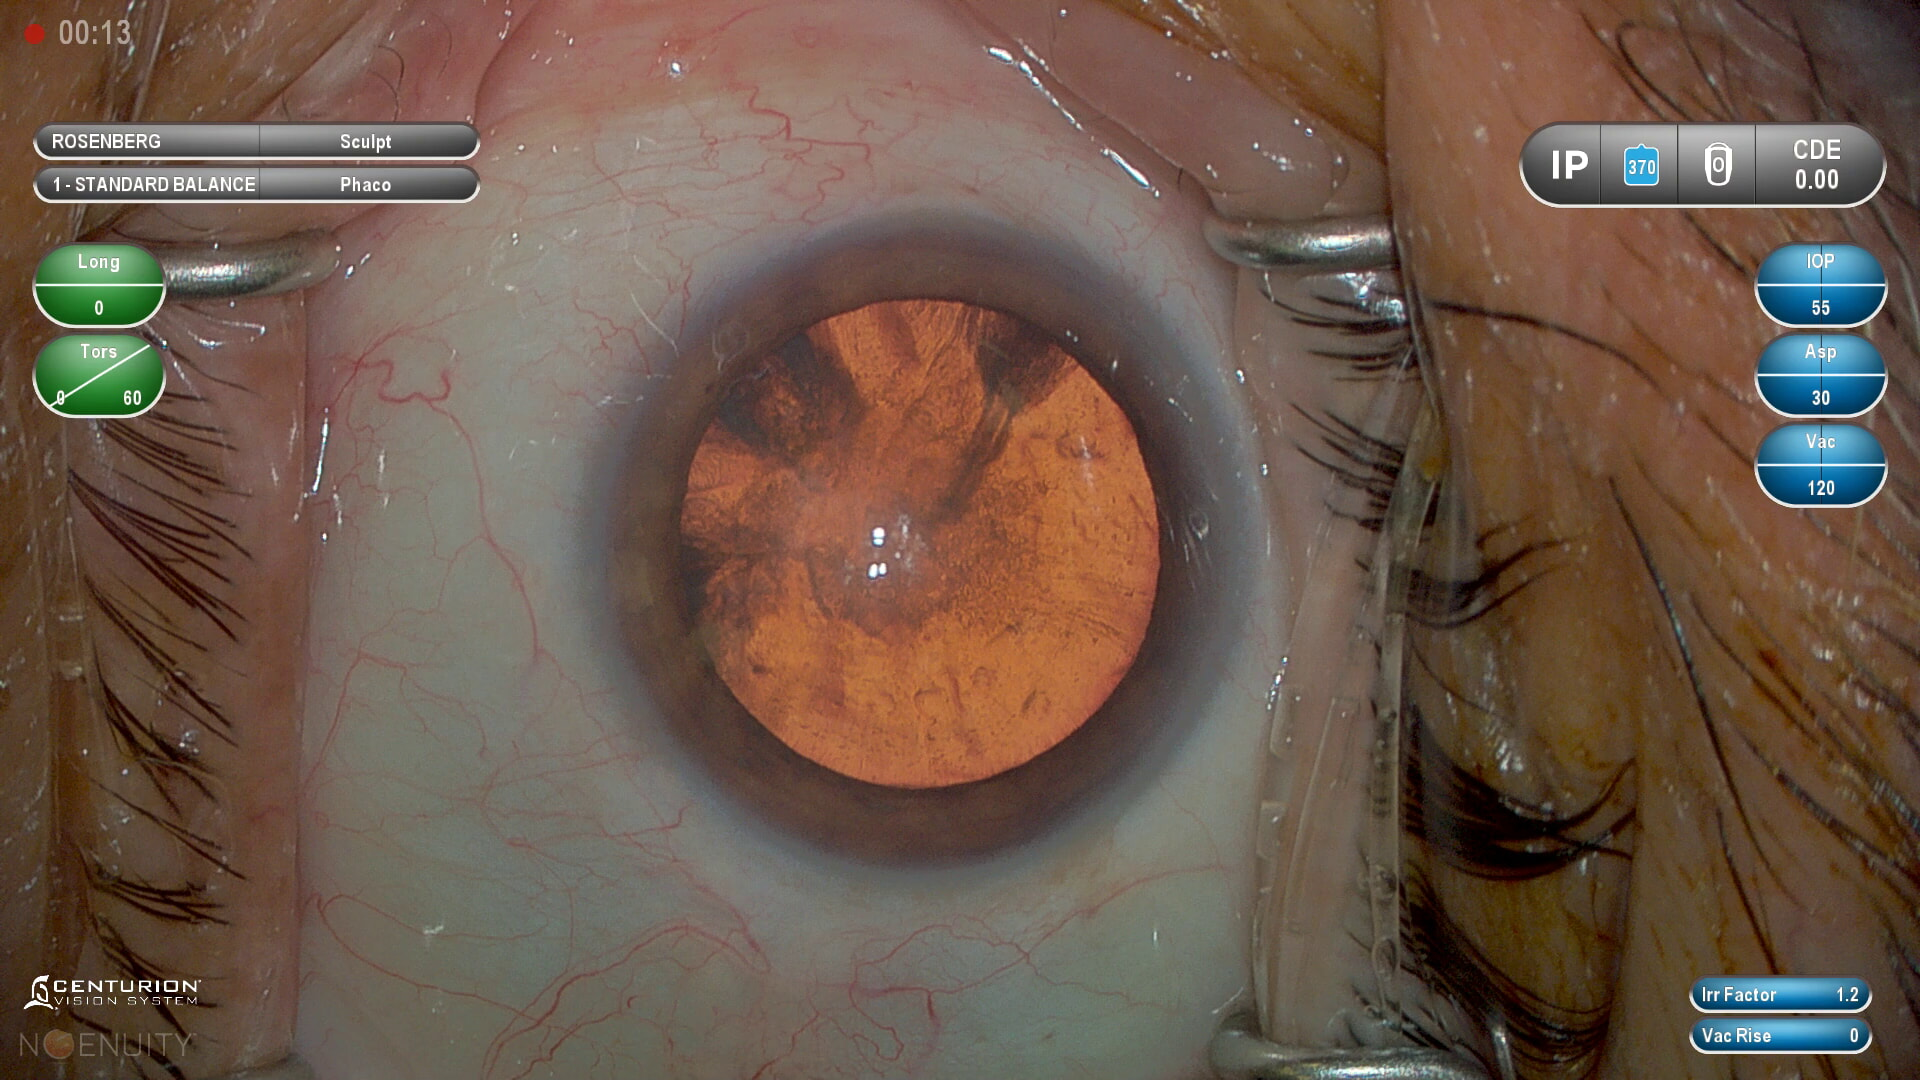iris: (610, 234, 1225, 865)
pupil: (676, 297, 1171, 792)
